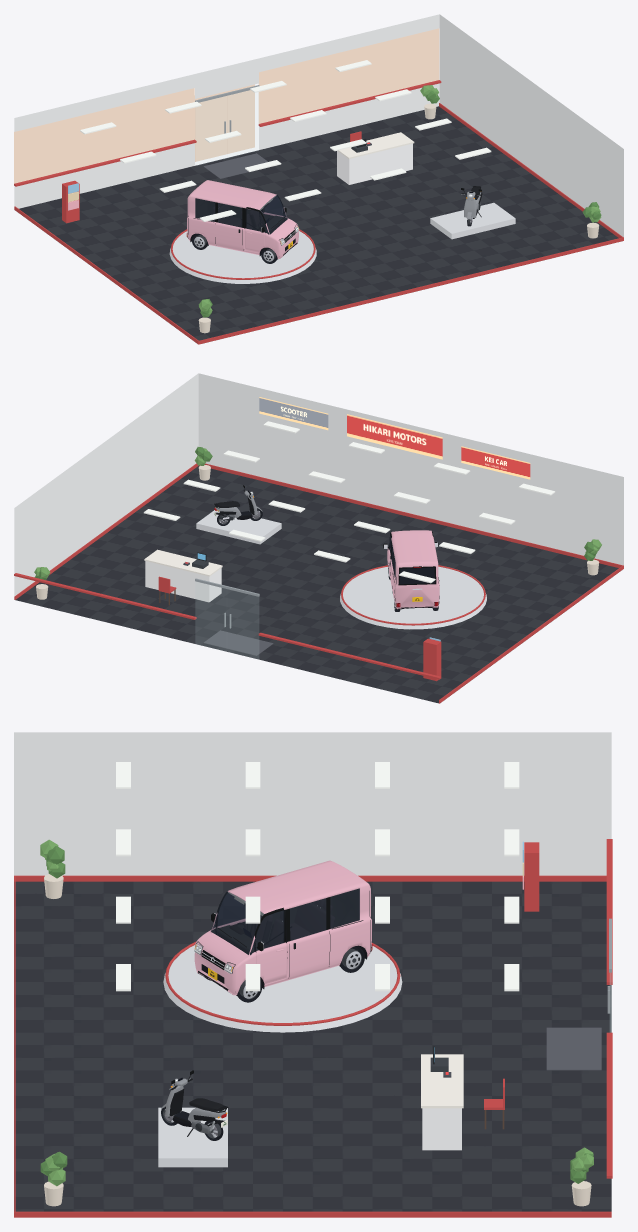
The model's file is interior-motors.opt.glb.
3 renders of one model, top to bottom at view 1: azimuth 30°, elevation 25°; view 2: azimuth 150°, elevation 25°; view 3: azimuth 270°, elevation 25°, orthographic. The views are drawn at different scales.
Visible parts, largest first — view 1: interior:motors:mat (×2), object 2, interior:motors:street-view, archLiner_045, object 1, body_glass, object 3; view 2: object 2, interior:motors:mat (×2), archLiner_045, object 1, name-sign, object 12, object 13, object 3, body_glass; view 3: interior:motors:mat (×2), object 2, archLiner_045, body_glass, object 3.
Part boxes in pixels (box(x1,y1,x2,y2)): interior:motors:mat (×2): box(19, 60, 618, 342); object 2: box(14, 14, 623, 344); interior:motors:street-view: box(14, 28, 439, 183); archLiner_045: box(187, 180, 482, 263); object 1: box(196, 90, 258, 165); body_glass: box(186, 194, 472, 245); object 3: box(171, 142, 370, 279); object 2: box(14, 373, 623, 703); interior:motors:mat (×2): box(15, 421, 618, 703); archLiner_045: box(214, 485, 439, 611); object 1: box(196, 582, 258, 658); name-sign: box(347, 414, 442, 459); object 12: box(461, 446, 530, 479); object 13: box(259, 397, 328, 430); object 3: box(185, 553, 485, 625); body_glass: box(251, 491, 438, 607); interior:motors:mat (×2): box(14, 762, 611, 1211); object 2: box(14, 732, 612, 1217); archLiner_045: box(161, 860, 371, 1140); body_glass: box(175, 888, 372, 1081); object 3: box(165, 941, 448, 1074).
Bounding box in the file's own units: 16 × 3.3 × 12.25.
17 materials, 17 textured.
